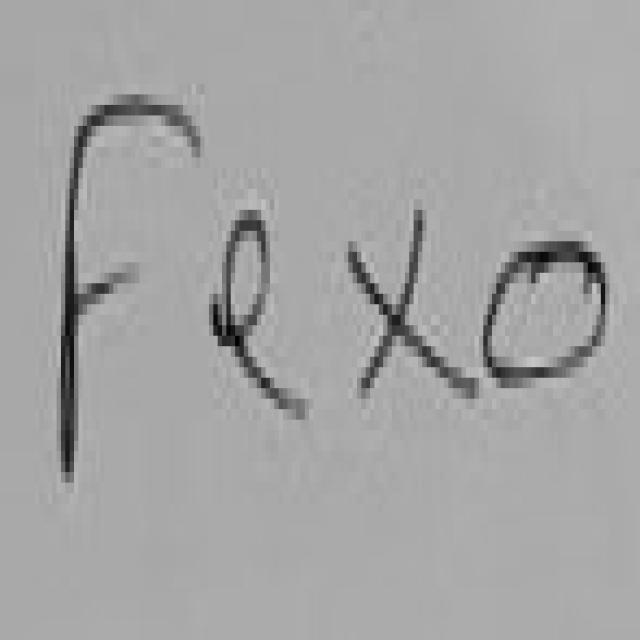F: (61, 94, 200, 483)
e: (213, 210, 309, 420)
o: (488, 241, 610, 388)
x: (353, 210, 479, 399)
